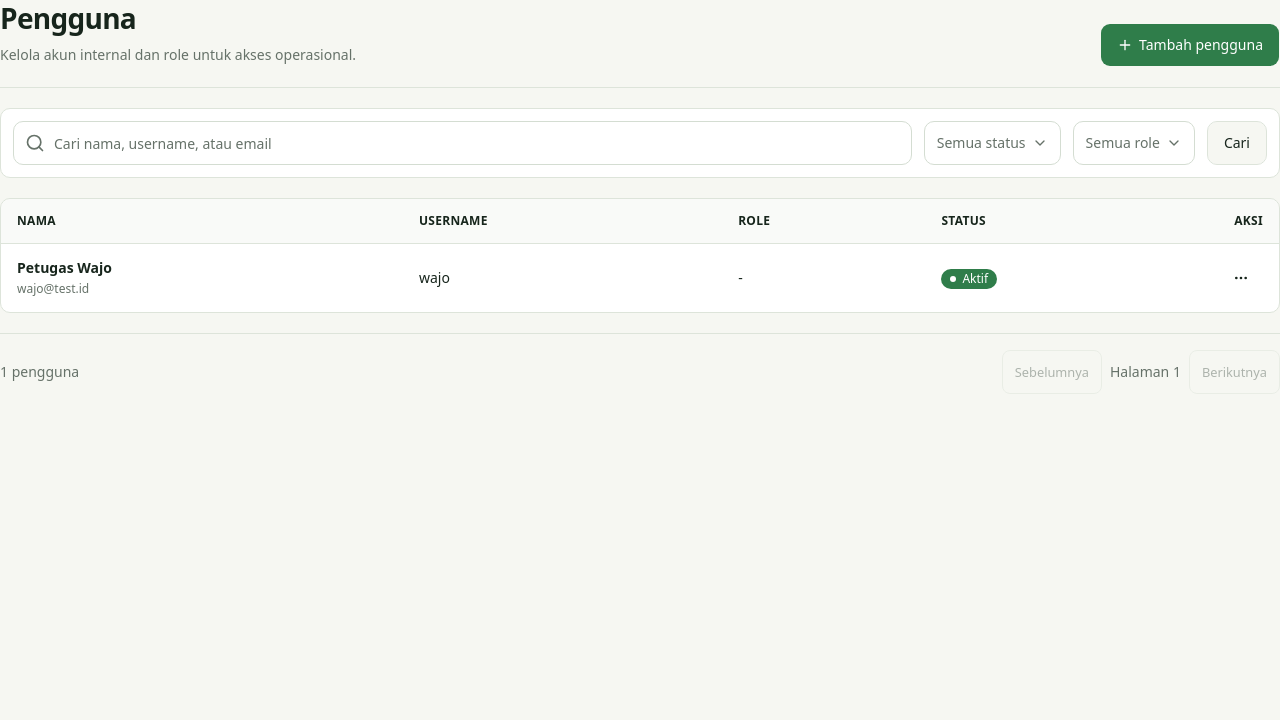
Test: lists users and opens the create dialog
Expected: the text "Petugas Wajo" is shown, [17,258,112,277]
What coordinates should you click on to do the following:
click the button "Tambah pengguna"
I would click on:
 (1190, 45)
Its box is [1100,23,1279,67].
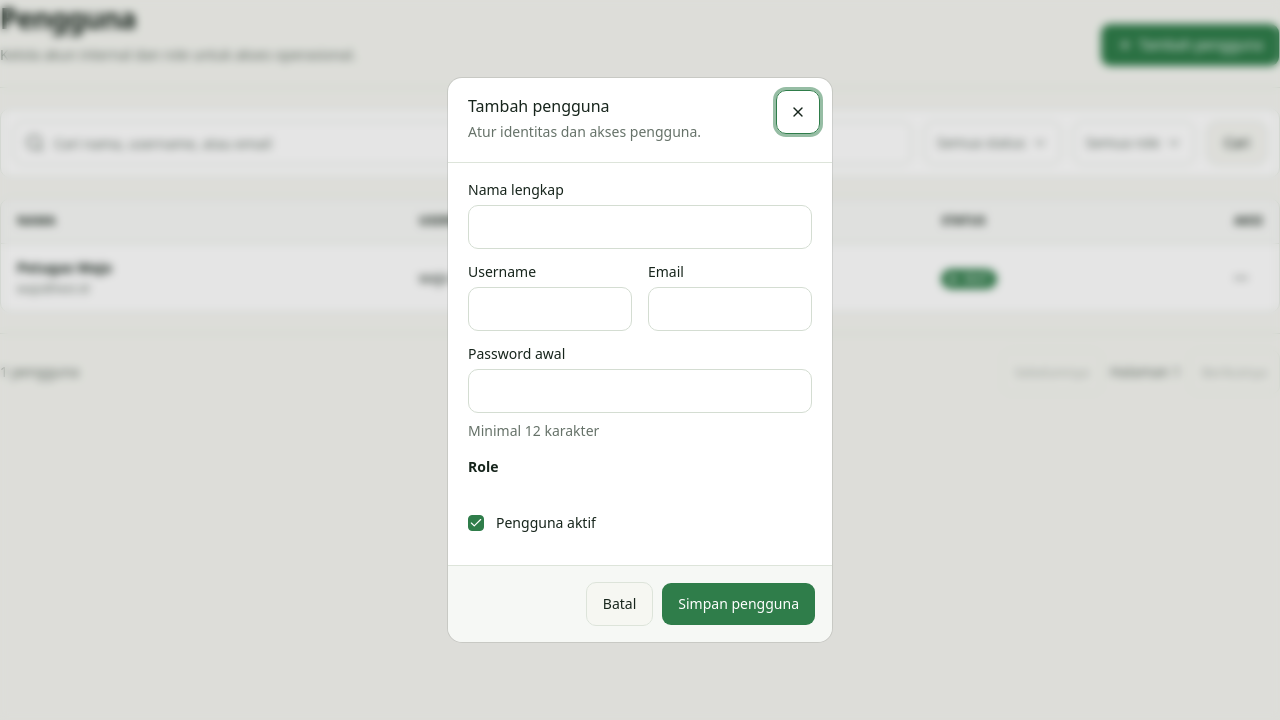
Expected: the dialog "Tambah pengguna" is shown, [448,78,832,642]
What coordinates should you click on to do the following:
click the button named "Tutup"
I would click on:
 (798, 112)
Its box is [776,90,820,134].
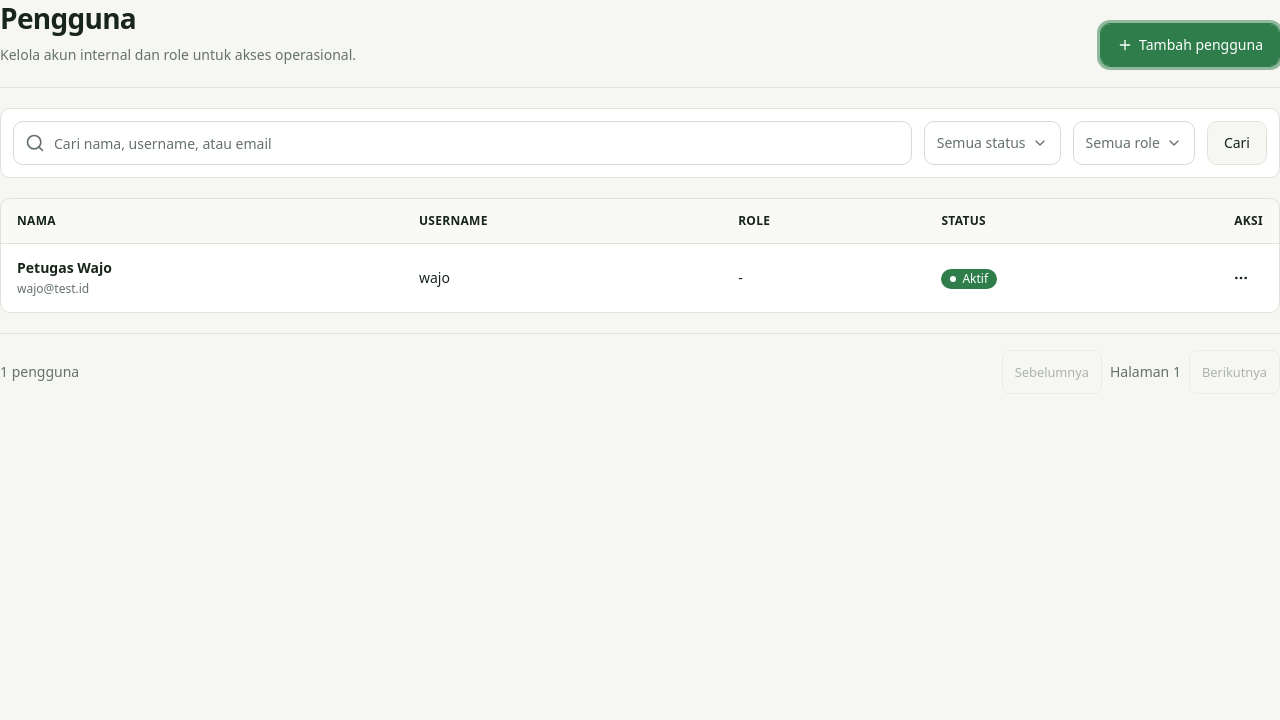
What coordinates should you click on to do the following:
click the button named "Aksi Petugas Wajo"
I would click on:
 (1241, 278)
Its box is [1219,256,1263,300].
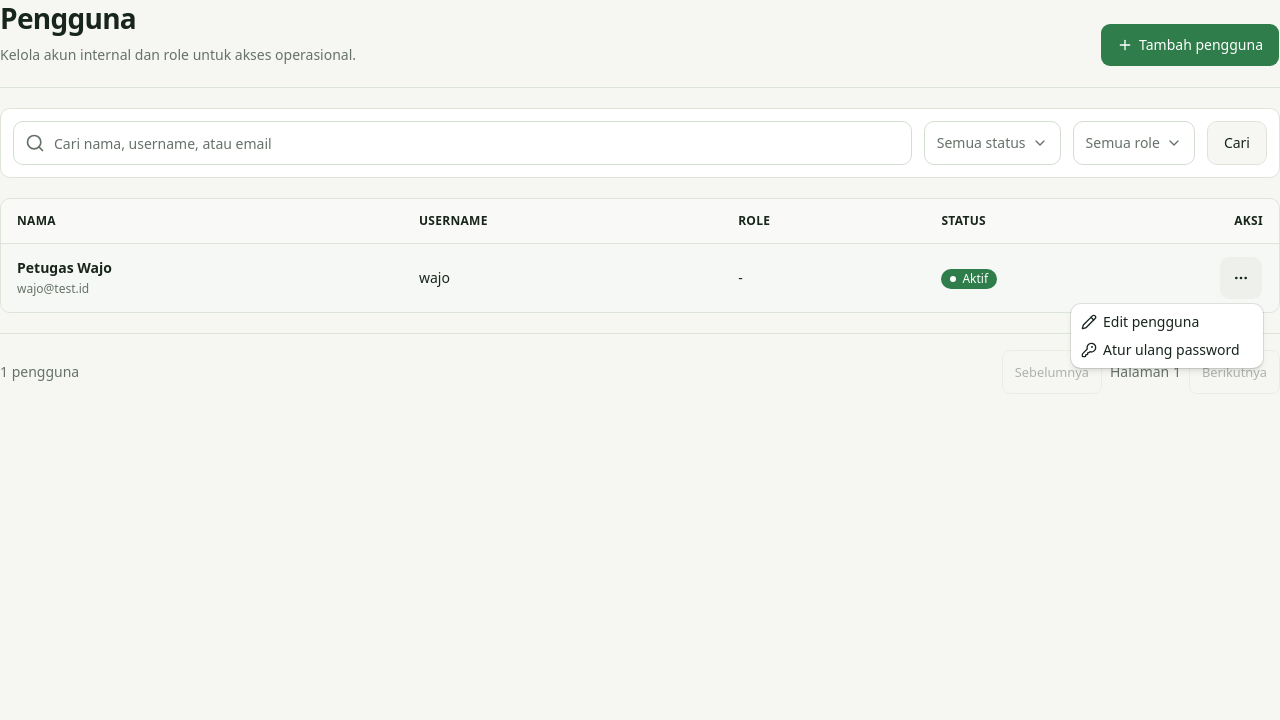
Expected: the menu item "Edit pengguna" is shown, [1081,312,1199,331]
Expected: the menu item "Atur ulang password" is shown, [1075,336,1259,364]
